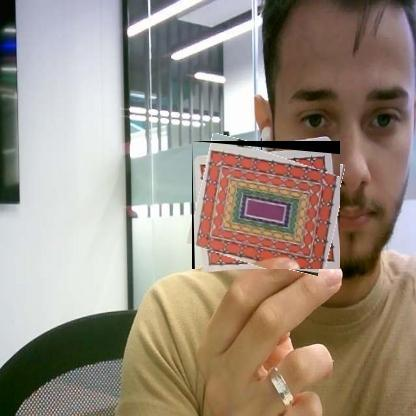BACK: (192, 141, 340, 269)
